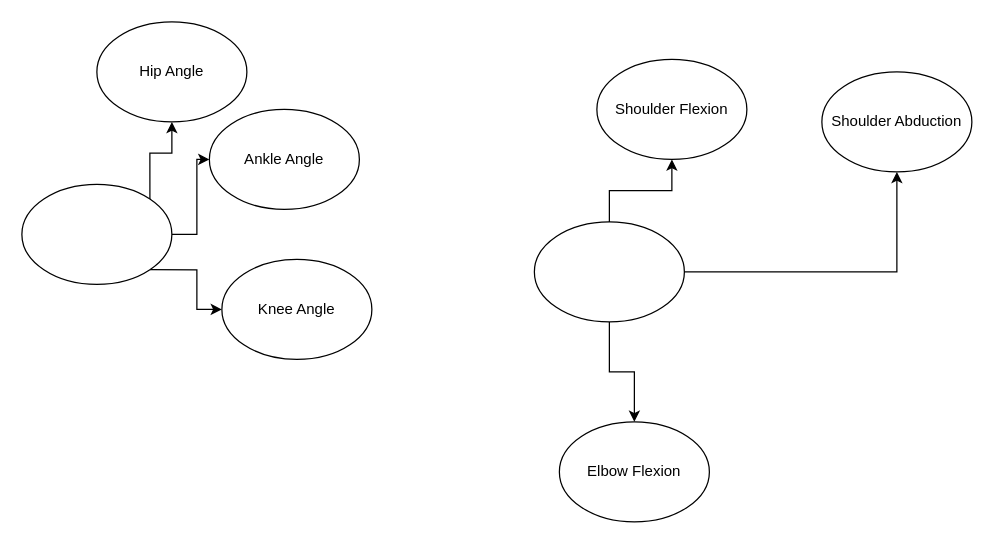
Image size: 994x544. Some labels were removed from this diagram. The shapes that lost their labels are listed below. From the top down, each one's box as (x1, y1, x2, y2) in pixels, then its label:
(21, 183, 172, 284): Squats
(533, 221, 684, 322): Bench Press
